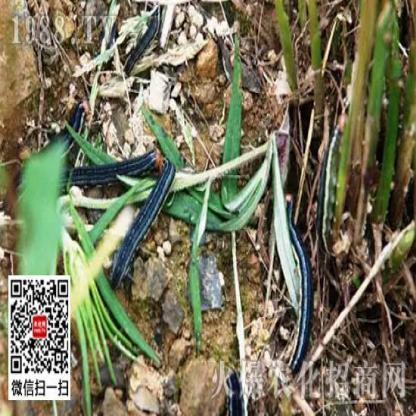armyworm: (108, 154, 178, 294), (12, 98, 90, 187), (310, 110, 348, 266), (284, 190, 313, 375), (70, 147, 167, 188), (122, 1, 165, 82), (221, 356, 242, 416)
